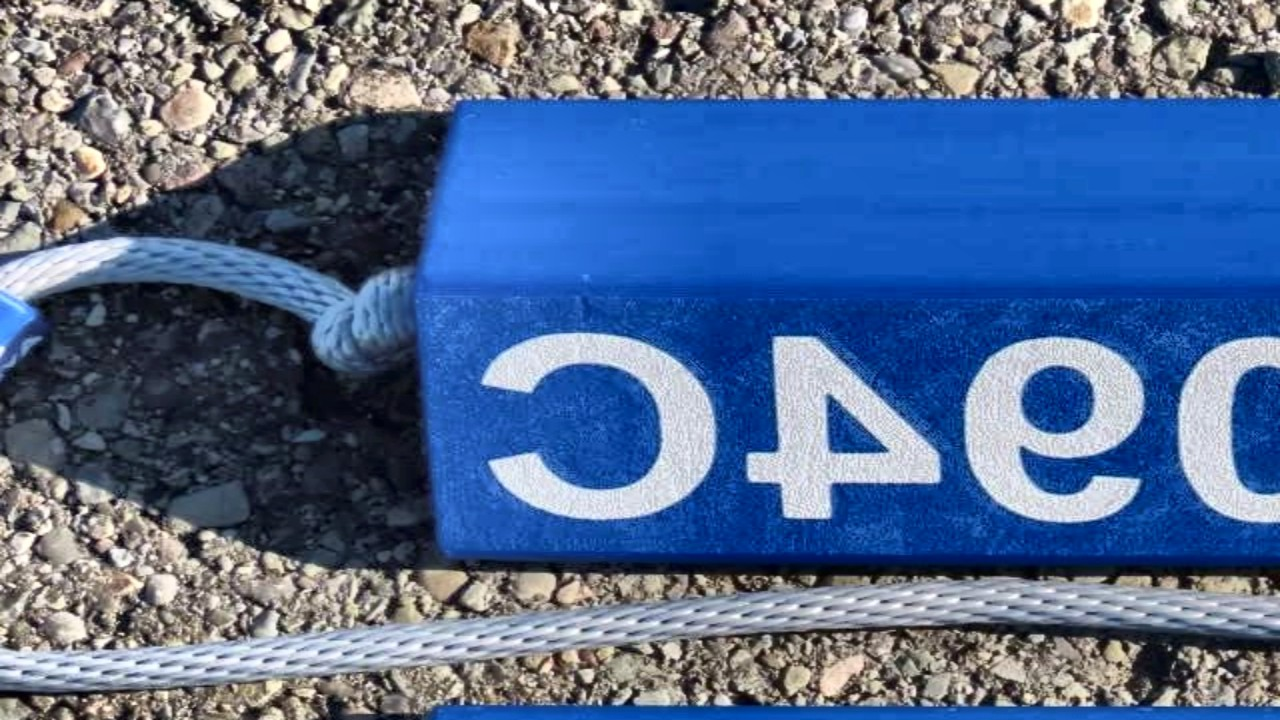chock: (426, 81, 1280, 569)
